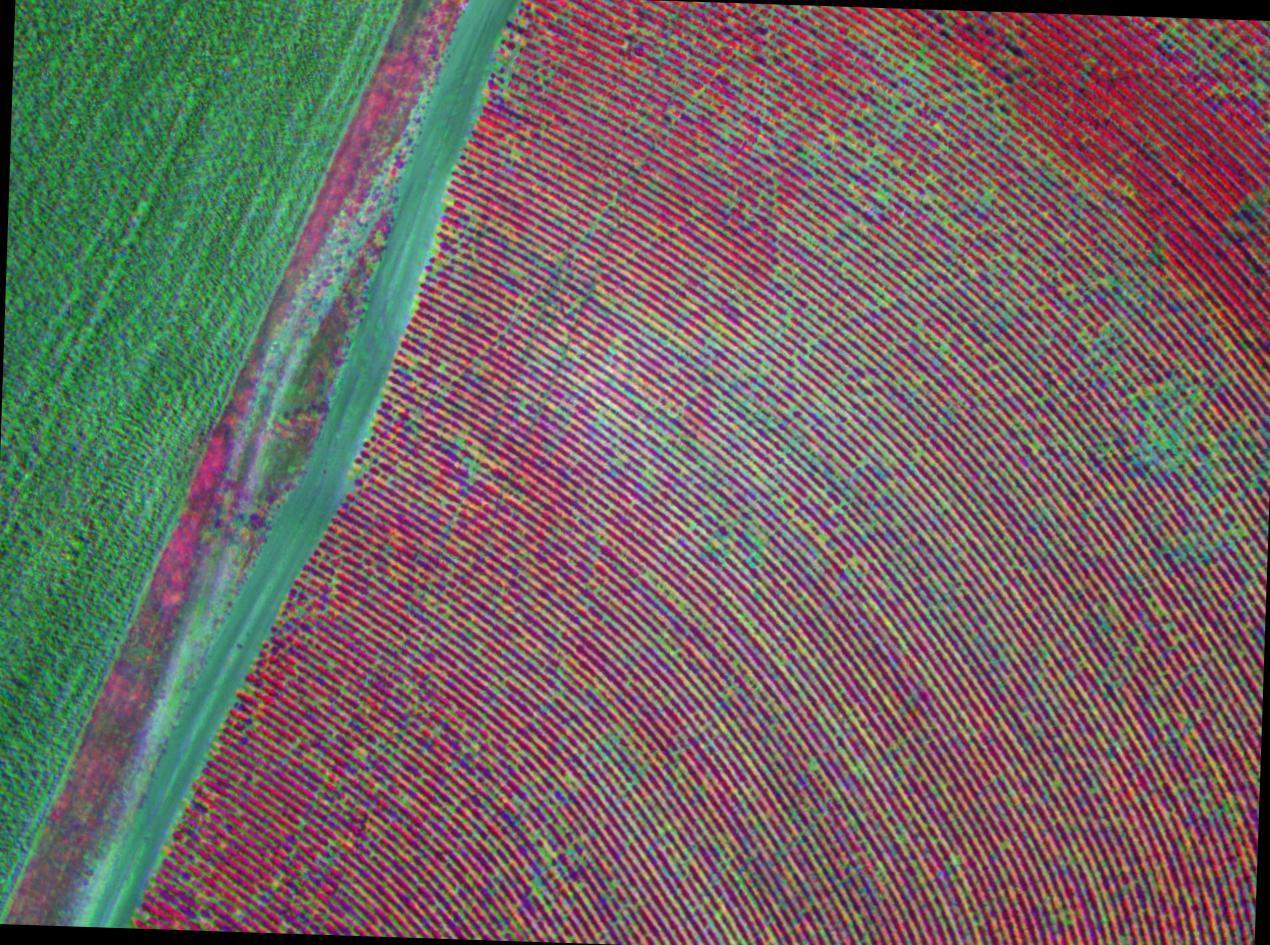dc: (532, 880, 543, 890), (355, 749, 366, 757), (1160, 439, 1169, 448), (1103, 279, 1113, 287), (848, 558, 858, 564), (1202, 459, 1209, 466), (1162, 385, 1170, 391)
